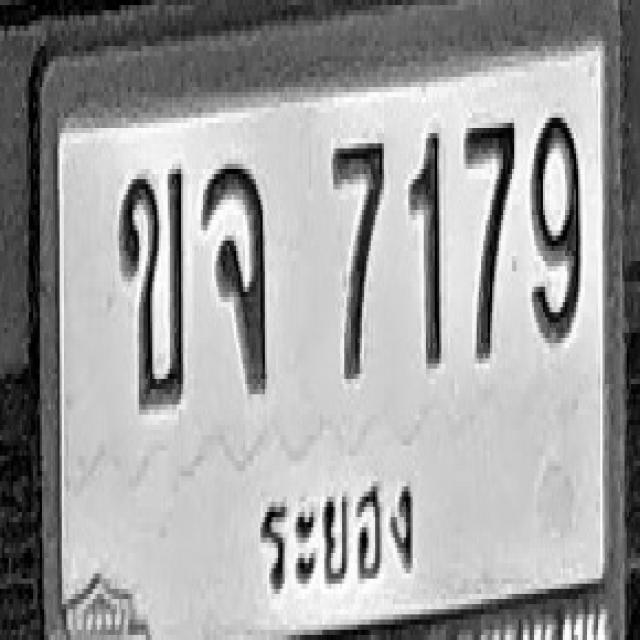1: (408, 128, 442, 369)
11KhorKhai: (118, 166, 184, 407)
17ChorChan: (202, 161, 266, 392)
7: (331, 138, 384, 379), (464, 118, 514, 358)
9: (531, 110, 579, 341)
Rayong: (251, 451, 421, 597)
